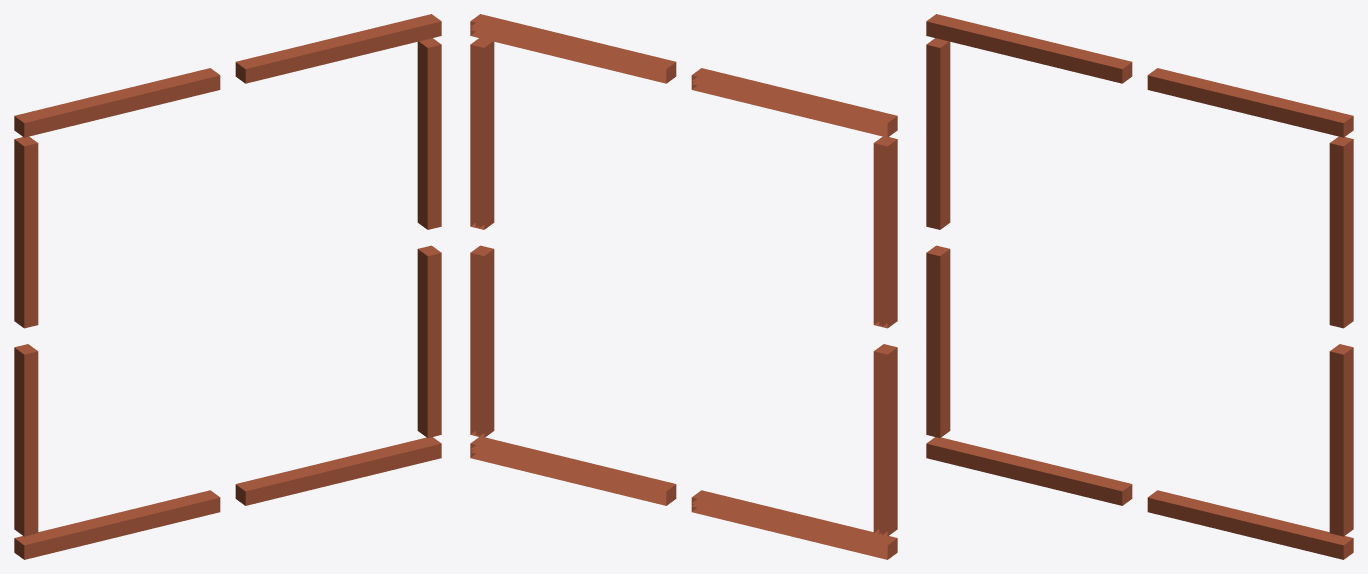
Rendered from construction_0.glb.
3 views of the same model, side by side, from view 1: azimuth 30°, elevation 25°; view 2: azimuth 150°, elevation 25°; view 3: azimuth 330°, elevation 25° (orthographic).
Parts seen in each view (by area): view 1: c0; view 2: c0; view 3: c0.
Boxes of the visible parts, <box> form: c0: <box>14,14,441,559</box>; c0: <box>470,14,897,559</box>; c0: <box>926,14,1353,559</box>.
Bounding box in the file's own units: 30 × 30 × 1.25.
